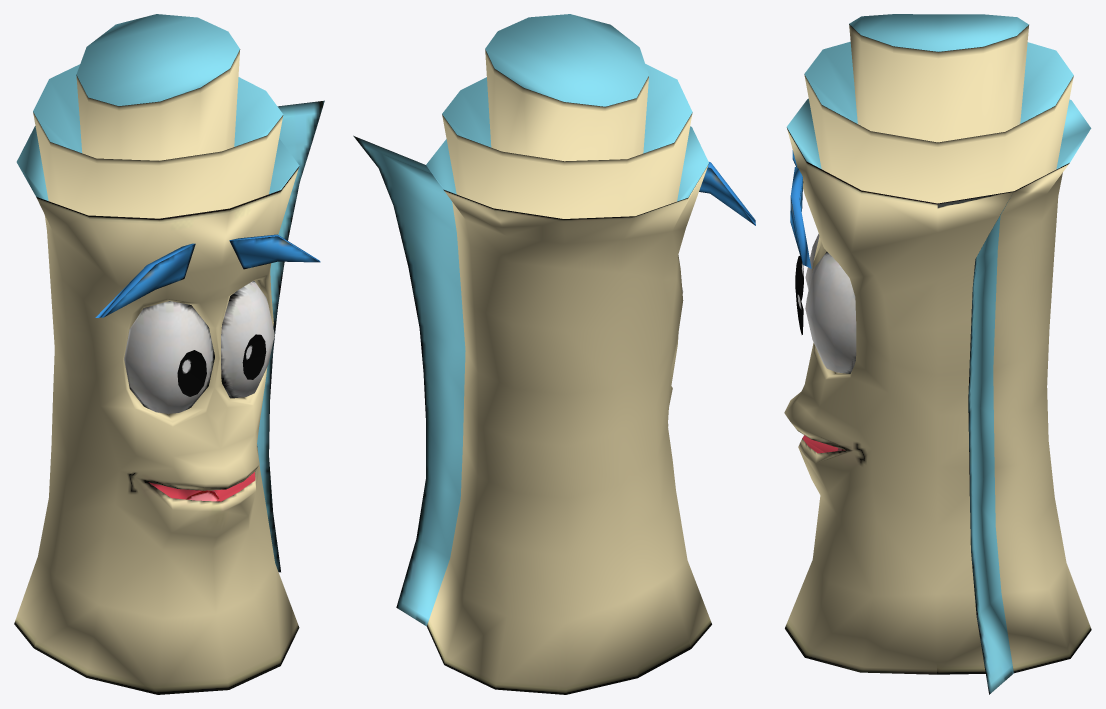
File: mapa.glb
The picture shows the model from 3 angles, left to right: view 1: azimuth 30°, elevation 25°; view 2: azimuth 150°, elevation 25°; view 3: azimuth 270°, elevation 25°; orthographic projection. The views are drawn at different scales.
Parts seen in each view (by area): view 1: Object_2; view 2: Object_2; view 3: Object_2.
Boxes of the visible parts, box(x1,y1,x2,y2) form: Object_2: box(14, 14, 324, 694); Object_2: box(353, 14, 755, 694); Object_2: box(784, 14, 1091, 694).
Size of the model in its own units: 4.29 by 7.61 by 3.45.
Materials: 1 (1 with a texture image).
